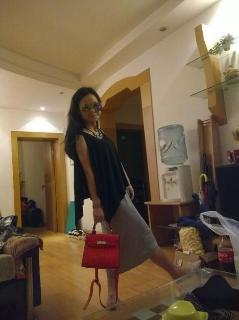vest: (72, 128, 159, 278)
vest dress: (73, 128, 130, 230)
